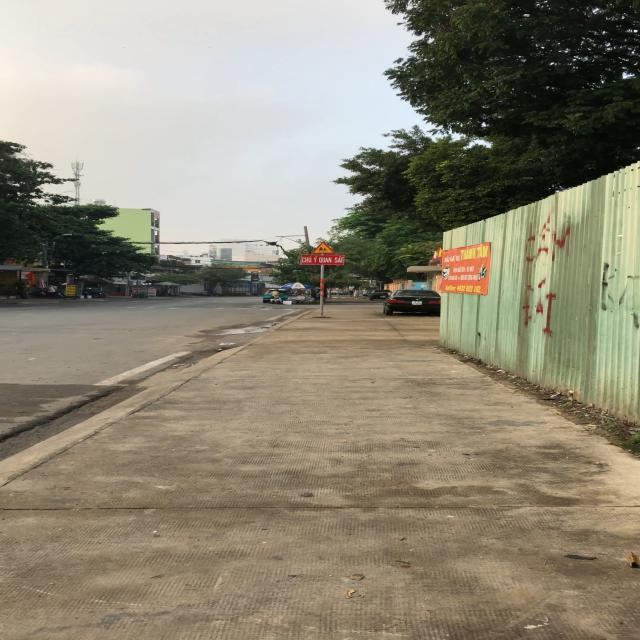Bien bao tre em: (311, 241, 337, 254)
